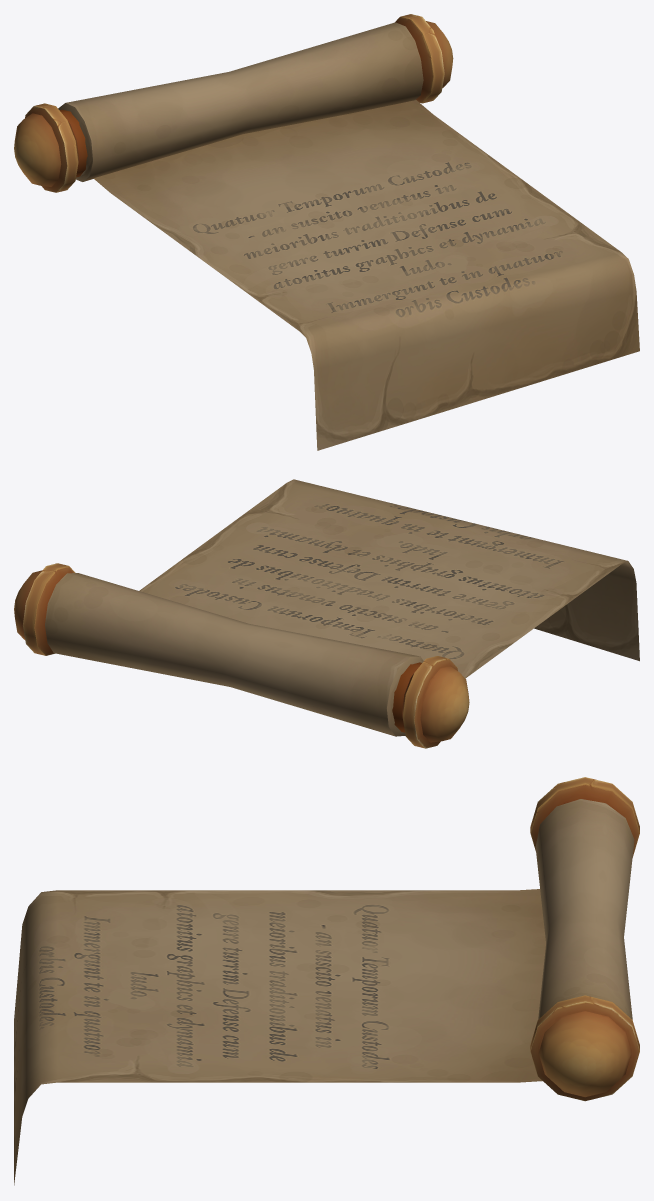
Rendered from Scroll_3.FBX.
3 renders of one model, top to bottom at view 1: azimuth 30°, elevation 25°; view 2: azimuth 150°, elevation 25°; view 3: azimuth 270°, elevation 25°, orthographic. The views are drawn at different scales.
Parts seen in each view (by area): view 1: Scroll_3; view 2: Scroll_3; view 3: Scroll_3.
Boxes of the visible parts, bbox=[...] form: Scroll_3: bbox=[14, 14, 639, 450]; Scroll_3: bbox=[14, 479, 639, 748]; Scroll_3: bbox=[14, 777, 639, 1185].
Size of the model in its own units: 577 by 230 by 591.
1 material, 1 textured.
